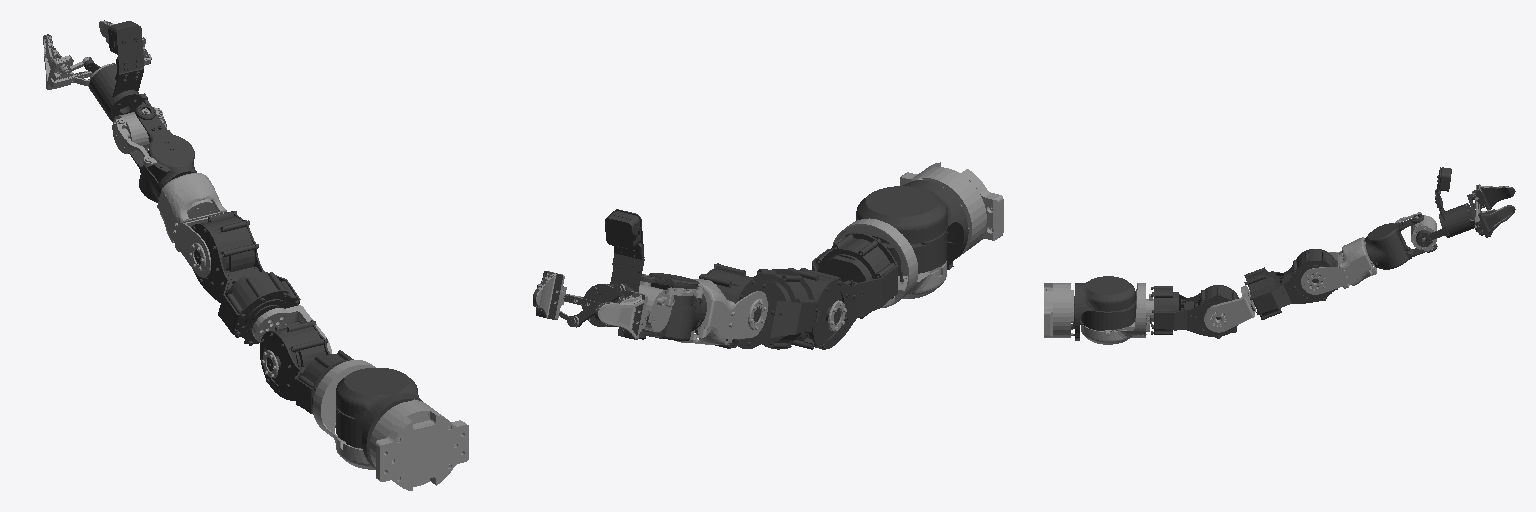
The robot description file, URDF, robot "dr_octopus_right":
<?xml version="1.0"?>
<robot name="dr_octopus_right" xmlns:xacro="http://ros.org/wiki/xacro">

  <material name="grey"><color rgba="0.6 0.6 0.6 1.0"/></material>
  <material name="dark"><color rgba="0.3 0.3 0.3 1.0"/></material>

  <link name="base_link"/>

  <link name="link0">
    <visual>
      <origin xyz="0 0 0" rpy="0 0 0"/>
      <geometry><mesh filename="package://dr_octopus_right_description/meshes/link0.stl"/></geometry>
      <material name="grey"/>
    </visual>
    <collision>
      <origin xyz="0 0 0" rpy="0 0 0"/>
      <geometry><mesh filename="package://dr_octopus_right_description/meshes/link0.stl"/></geometry>
    </collision>
    <inertial>
      <mass value="0.5"/>
      <inertia ixx="0.001" ixy="0" ixz="0" iyy="0.001" iyz="0" izz="0.001"/>
    </inertial>
  </link>

  <link name="link1">
    <visual>
      <origin xyz="0 0 0" rpy="0 0 0"/>
      <geometry><mesh filename="package://dr_octopus_right_description/meshes/link1.stl"/></geometry>
      <material name="dark"/>
    </visual>
    <collision>
      <origin xyz="0 0 0" rpy="0 0 0"/>
      <geometry><mesh filename="package://dr_octopus_right_description/meshes/link1.stl"/></geometry>
    </collision>
    <inertial>
      <mass value="0.5"/>
      <inertia ixx="0.001" ixy="0" ixz="0" iyy="0.001" iyz="0" izz="0.001"/>
    </inertial>
  </link>

  <link name="link2">
    <visual>
      <origin xyz="0 0 0" rpy="0 0 0"/>
      <geometry><mesh filename="package://dr_octopus_right_description/meshes/link2.stl"/></geometry>
      <material name="grey"/>
    </visual>
    <collision>
      <origin xyz="0 0 0" rpy="0 0 0"/>
      <geometry><mesh filename="package://dr_octopus_right_description/meshes/link2.stl"/></geometry>
    </collision>
    <inertial>
      <mass value="0.5"/>
      <inertia ixx="0.001" ixy="0" ixz="0" iyy="0.001" iyz="0" izz="0.001"/>
    </inertial>
  </link>

  <link name="link3_prime">
    <visual>
      <origin xyz="0 0 0" rpy="0 0 0"/>
      <geometry><mesh filename="package://dr_octopus_right_description/meshes/link3_prime.stl"/></geometry>
      <material name="dark"/>
    </visual>
    <collision>
      <origin xyz="0 0 0" rpy="0 0 0"/>
      <geometry><mesh filename="package://dr_octopus_right_description/meshes/link3_prime.stl"/></geometry>
    </collision>
    <inertial>
      <mass value="0.5"/>
      <inertia ixx="0.001" ixy="0" ixz="0" iyy="0.001" iyz="0" izz="0.001"/>
    </inertial>
  </link>

  <link name="link4_prime">
    <visual>
      <origin xyz="0 0 0" rpy="0 0 0"/>
      <geometry><mesh filename="package://dr_octopus_right_description/meshes/link4_prime.stl"/></geometry>
      <material name="grey"/>
    </visual>
    <collision>
      <origin xyz="0 0 0" rpy="0 0 0"/>
      <geometry><mesh filename="package://dr_octopus_right_description/meshes/link4_prime.stl"/></geometry>
    </collision>
    <inertial>
      <mass value="0.5"/>
      <inertia ixx="0.001" ixy="0" ixz="0" iyy="0.001" iyz="0" izz="0.001"/>
    </inertial>
  </link>

  <link name="link3">
    <visual>
      <origin xyz="0 0 0" rpy="0 0 0"/>
      <geometry><mesh filename="package://dr_octopus_right_description/meshes/link3.stl"/></geometry>
      <material name="dark"/>
    </visual>
    <collision>
      <origin xyz="0 0 0" rpy="0 0 0"/>
      <geometry><mesh filename="package://dr_octopus_right_description/meshes/link3.stl"/></geometry>
    </collision>
    <inertial>
      <mass value="0.5"/>
      <inertia ixx="0.001" ixy="0" ixz="0" iyy="0.001" iyz="0" izz="0.001"/>
    </inertial>
  </link>

  <link name="link4">
    <visual>
      <origin xyz="0 0 0" rpy="0 0 0"/>
      <geometry><mesh filename="package://dr_octopus_right_description/meshes/link4.stl"/></geometry>
      <material name="grey"/>
    </visual>
    <collision>
      <origin xyz="0 0 0" rpy="0 0 0"/>
      <geometry><mesh filename="package://dr_octopus_right_description/meshes/link4.stl"/></geometry>
    </collision>
    <inertial>
      <mass value="0.5"/>
      <inertia ixx="0.001" ixy="0" ixz="0" iyy="0.001" iyz="0" izz="0.001"/>
    </inertial>
  </link>

  <link name="link5">
    <visual>
      <origin xyz="0 0 0" rpy="0 0 0"/>
      <geometry><mesh filename="package://dr_octopus_right_description/meshes/link5.stl"/></geometry>
      <material name="dark"/>
    </visual>
    <collision>
      <origin xyz="0 0 0" rpy="0 0 0"/>
      <geometry><mesh filename="package://dr_octopus_right_description/meshes/link5.stl"/></geometry>
    </collision>
    <inertial>
      <mass value="0.5"/>
      <inertia ixx="0.001" ixy="0" ixz="0" iyy="0.001" iyz="0" izz="0.001"/>
    </inertial>
  </link>

  <link name="link6">
    <visual>
      <origin xyz="0 0 0" rpy="0 0 0"/>
      <geometry><mesh filename="package://dr_octopus_right_description/meshes/link6.stl"/></geometry>
      <material name="grey"/>
    </visual>
    <collision>
      <origin xyz="0 0 0" rpy="0 0 0"/>
      <geometry><mesh filename="package://dr_octopus_right_description/meshes/link6.stl"/></geometry>
    </collision>
    <inertial>
      <mass value="0.5"/>
      <inertia ixx="0.001" ixy="0" ixz="0" iyy="0.001" iyz="0" izz="0.001"/>
    </inertial>
  </link>

  <link name="link7">
    <visual>
      <origin xyz="0 0 0" rpy="0 0 0"/>
      <geometry><mesh filename="package://dr_octopus_right_description/meshes/link7.stl"/></geometry>
      <material name="dark"/>
    </visual>
    <collision>
      <origin xyz="0 0 0" rpy="0 0 0"/>
      <geometry><mesh filename="package://dr_octopus_right_description/meshes/link7.stl"/></geometry>
    </collision>
    <inertial>
      <mass value="0.5"/>
      <inertia ixx="0.001" ixy="0" ixz="0" iyy="0.001" iyz="0" izz="0.001"/>
    </inertial>
  </link>

  <link name="ee">
    <visual>
      <origin xyz="0 0 0" rpy="0 0 0"/>
      <geometry><mesh filename="package://dr_octopus_right_description/meshes/ee.stl"/></geometry>
      <material name="grey"/>
    </visual>
    <collision>
      <origin xyz="0 0 0" rpy="0 0 0"/>
      <geometry><mesh filename="package://dr_octopus_right_description/meshes/ee.stl"/></geometry>
    </collision>
    <inertial>
      <mass value="0.5"/>
      <inertia ixx="0.001" ixy="0" ixz="0" iyy="0.001" iyz="0" izz="0.001"/>
    </inertial>
  </link>

  <joint name="base_joint" type="fixed">
    <parent link="base_link"/>
    <child link="link0"/>
    <origin xyz="-0.010472 -0.263107 0.501182" rpy="0 0 0"/>
  </joint>

  <joint name="joint1" type="revolute">
    <parent link="link0"/>
    <child link="link1"/>
    <origin xyz="0.000000 0.000000 0.019000" rpy="0 0 0"/>
    <axis xyz="0 1 0"/>
    <limit lower="-1.25" upper="3.0" effort="120" velocity="10.47"/>
  </joint>

  <joint name="joint2" type="revolute">
    <parent link="link1"/>
    <child link="link2"/>
    <origin xyz="-0.000001 0.121000 0.000000" rpy="0 0 0"/>
    <axis xyz="0 0 1"/>
    <limit lower="-0.129" upper="3.271" effort="120" velocity="10.47"/>
  </joint>

  <joint name="joint3_prime" type="revolute">
    <parent link="link2"/>
    <child link="link3_prime"/>
    <origin xyz="0.000001 0.101500 -0.000501" rpy="0 0 0"/>
    <axis xyz="0 1 0"/>
    <limit lower="-1.57" upper="1.57" effort="60" velocity="10.47"/>
  </joint>

  <joint name="joint4_prime" type="revolute">
    <parent link="link3_prime"/>
    <child link="link4_prime"/>
    <origin xyz="0.028502 0.139312 0.000000" rpy="0 0 0"/>
    <axis xyz="1 0 0"/>
    <limit lower="0.0" upper="1.8" effort="60" velocity="10.47"/>
  </joint>

  <joint name="joint3" type="revolute">
    <parent link="link4_prime"/>
    <child link="link3"/>
    <origin xyz="-0.028399 0.082687 0.034250" rpy="0 0 0"/>
    <axis xyz="0 1 0"/>
    <limit lower="-1.57" upper="1.57" effort="60" velocity="10.47"/>
  </joint>

  <joint name="joint4" type="revolute">
    <parent link="link3"/>
    <child link="link4"/>
    <origin xyz="0.028502 0.128708 0.053312" rpy="0 0 0"/>
    <axis xyz="1 0 0"/>
    <limit lower="0.0" upper="1.8" effort="60" velocity="10.47"/>
  </joint>

  <joint name="joint5" type="revolute">
    <parent link="link4"/>
    <child link="link5"/>
    <origin xyz="0.008810 0.117794 0.048792" rpy="0 0 0"/>
    <axis xyz="0 1 0"/>
    <limit lower="-1.5" upper="1.5" effort="14" velocity="10.47"/>
  </joint>

  <joint name="joint6" type="revolute">
    <parent link="link5"/>
    <child link="link6"/>
    <origin xyz="-0.037210 0.043422 0.017986" rpy="0 0 0"/>
    <axis xyz="0 0 1"/>
    <limit lower="-0.75" upper="0.75" effort="14" velocity="10.47"/>
  </joint>

  <joint name="joint7" type="revolute">
    <parent link="link6"/>
    <child link="link7"/>
    <origin xyz="-0.031500 0.076108 0.031850" rpy="0 0 0"/>
    <axis xyz="1 0 0"/>
    <limit lower="-1.4" upper="1.4" effort="14" velocity="10.47"/>
  </joint>

  <joint name="joint_ee" type="prismatic">
    <parent link="link7"/>
    <child link="ee"/>
    <origin xyz="0.031499 0.054047 0.022388" rpy="0 0 0"/>
    <axis xyz="0 0 1"/>
    <limit lower="0.0" upper="0.044" effort="333" velocity="10.0"/>
  </joint>

</robot>

--- Facts derived from the render (not from the file) ---
Views: 3 orthographic renders of the robot side by side, from view 1: azimuth 30°, elevation 25°; view 2: azimuth 150°, elevation 25°; view 3: azimuth 270°, elevation 25°.
Model dr_octopus_right with 12 links and 11 joints (9 revolute, 1 prismatic, 1 fixed), rooted at base_link, posed every joint at zero.
Links seen in each view (by area): view 1: link3, link0, link3_prime, link1, link7, link4, link5, link2, ee, link6, link4_prime; view 2: link3_prime, link1, link3, link7, link0, link4, link2, link5, ee, link6; view 3: link3, link1, link7, link3_prime, link4, link5, link0, link2, link4_prime, link6.
Link boxes in pixels (left/top/right/bottom): link3: left=191, top=211, right=300, bottom=345; link0: left=369, top=399, right=468, bottom=490; link3_prime: left=260, top=320, right=353, bottom=427; link1: left=336, top=368, right=422, bottom=467; link7: left=44, top=20, right=166, bottom=126; link4: left=157, top=173, right=227, bottom=277; link5: left=128, top=104, right=196, bottom=202; link2: left=313, top=360, right=375, bottom=469; ee: left=43, top=21, right=151, bottom=90; link6: left=112, top=107, right=166, bottom=166; link4_prime: left=252, top=305, right=331, bottom=377; link3_prime: left=787, top=232, right=903, bottom=349; link1: left=856, top=180, right=968, bottom=275; link3: left=695, top=263, right=819, bottom=349; link7: left=533, top=209, right=649, bottom=339; link0: left=900, top=162, right=1003, bottom=256; link4: left=677, top=279, right=767, bottom=344; link2: left=833, top=218, right=946, bottom=307; link5: left=639, top=273, right=706, bottom=340; ee: left=536, top=271, right=652, bottom=339; link6: left=639, top=274, right=703, bottom=331; link3: left=1244, top=249, right=1337, bottom=319; link1: left=1071, top=276, right=1135, bottom=340; link7: left=1416, top=167, right=1515, bottom=246; link3_prime: left=1150, top=285, right=1238, bottom=338; link4: left=1301, top=237, right=1376, bottom=294; link5: left=1365, top=214, right=1437, bottom=269; link0: left=1044, top=283, right=1073, bottom=337; link2: left=1081, top=283, right=1153, bottom=344; link4_prime: left=1204, top=285, right=1255, bottom=332; link6: left=1394, top=212, right=1436, bottom=251.
Bounding box of the posed robot: 0.1677 × 1.03 × 0.4004 m (x, y, z).
Meshes: 11 distinct files referenced, 11 mesh visuals loaded (11 binary STL).
